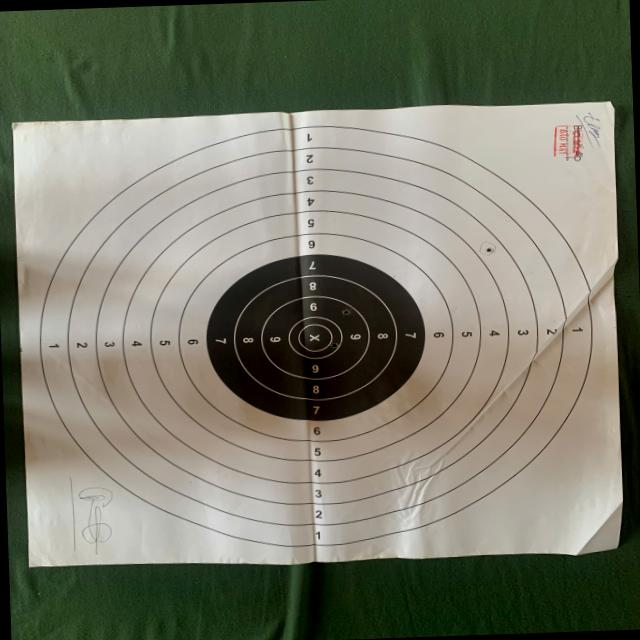bullet: (329, 339, 337, 347), (486, 246, 493, 254), (344, 307, 347, 315)
target: (13, 102, 622, 566)
